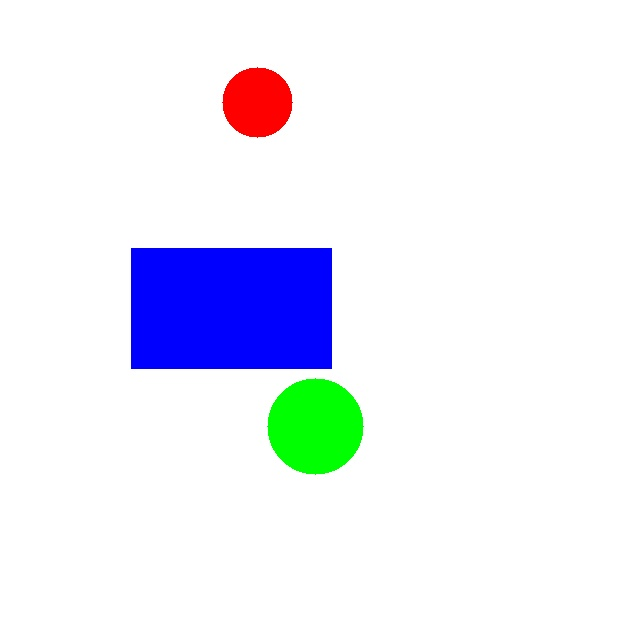cartao: (131, 248, 331, 368)
rosca_externa: (267, 378, 363, 474)
rosca_interna: (222, 67, 292, 137)
